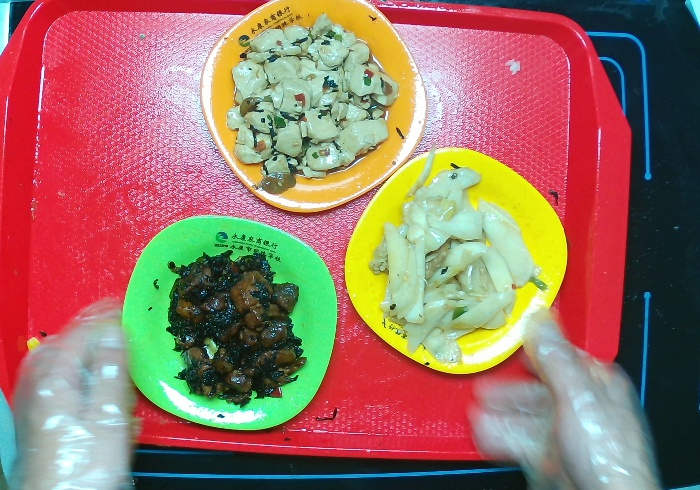YKMZ-Huang_Se_Fang_Die: (340, 140, 574, 379)
YKMZ-Ju_Se_Fang_Die: (195, 1, 432, 220)
YKMZ-Lv_Se_Fang_Die: (111, 211, 341, 436)
